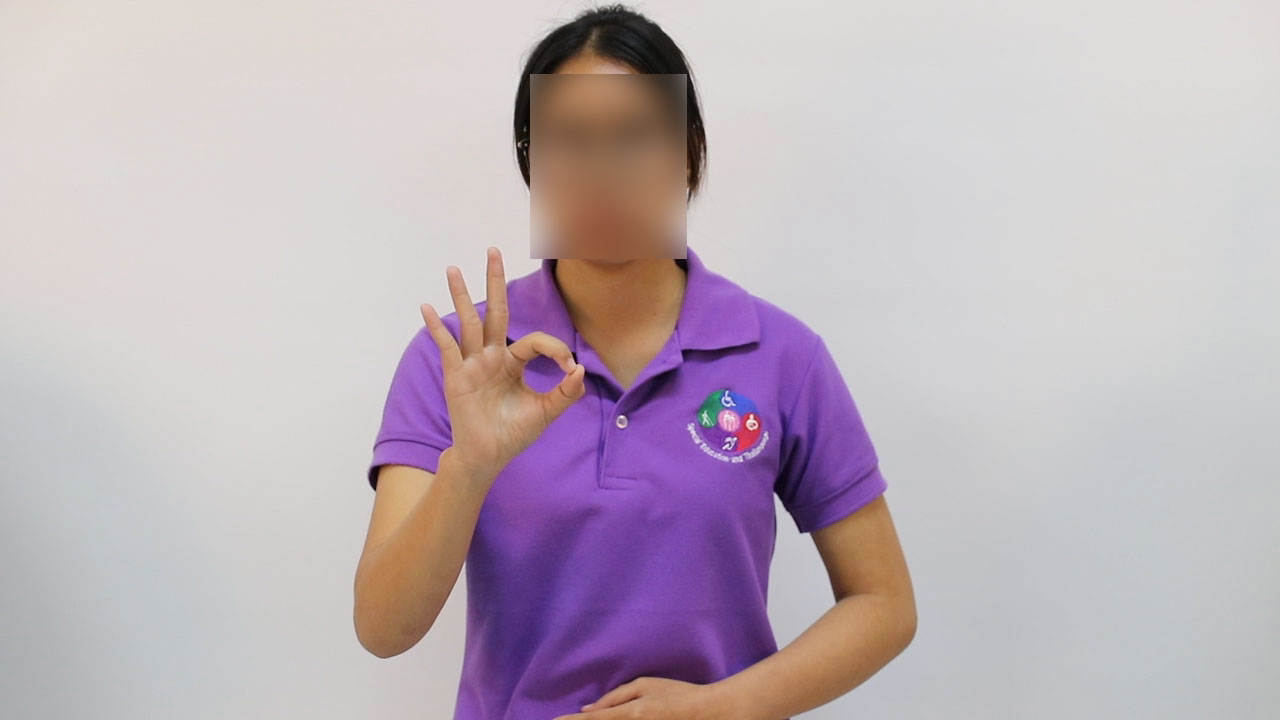for: (412, 235, 592, 477)
